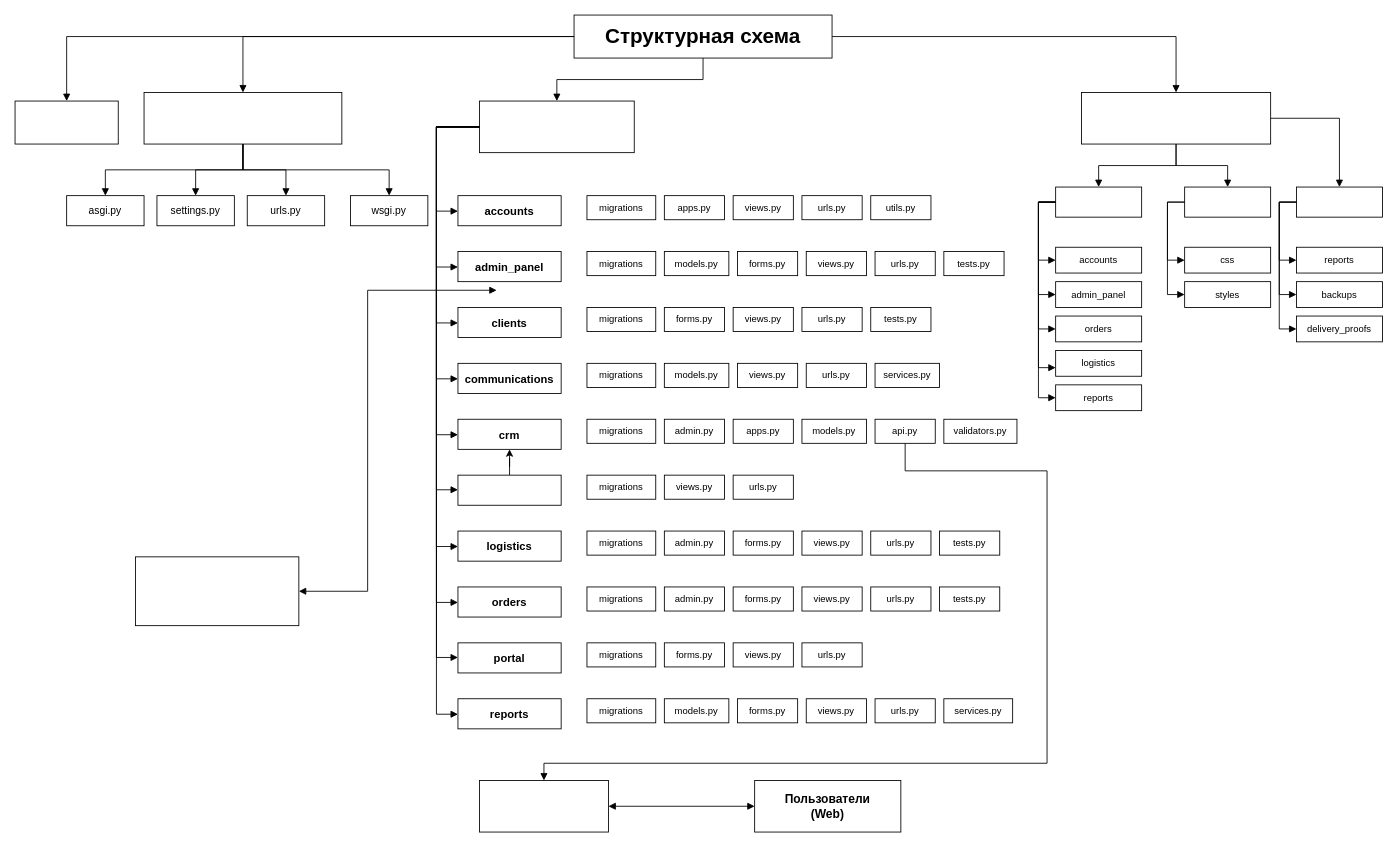
Some shapes in this 1398 by 847 pixel diagram are drawn without their labels. The shapes that lost their labels are listed below. From the top down, each one's centre as x and y in pixels, then its label:
At point (66, 122): "manage.py".
At point (242, 118): "Проектная конфигурация factory_crm".
At point (556, 126): "Приложения (apps)".
At point (1176, 118): "Общие директории".
At point (1098, 201): "templates".
At point (1227, 201): "static".
At point (1339, 201): "media".
At point (509, 489): "dashboard".
At point (217, 591): "База данных PostgreSQL".
At point (543, 806): "REST API (JSON)".
